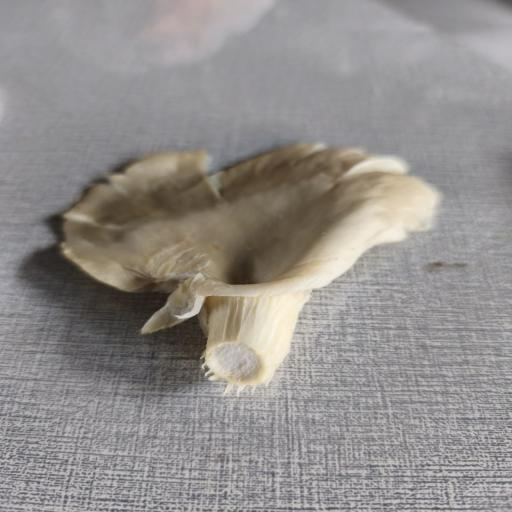White Oyster Mushroom: (41, 127, 448, 414)
